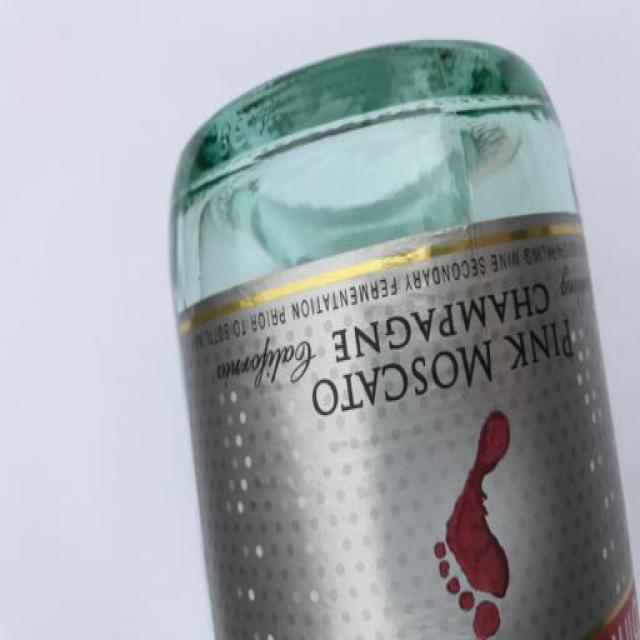glass: (142, 16, 640, 640)
